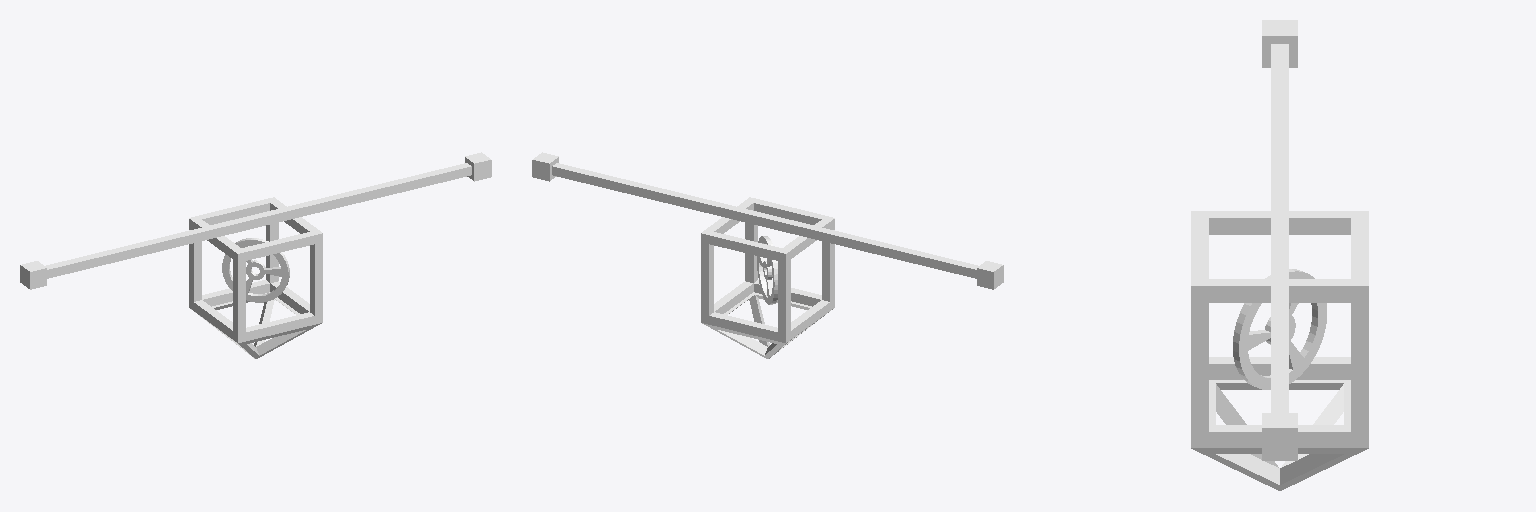
URDF robot description (one_wheel_cubli):
<?xml version="1.0" encoding="utf-8"?>
<!-- This URDF was automatically created by SolidWorks to URDF Exporter! Originally created by [author] ([email redacted]) 
     Commit Version: 1.6.0-4-g7f85cfe  Build Version: 1.6.7995.38578
     For more information, please see http://wiki.ros.org/sw_urdf_exporter -->
<robot
  name="one_wheel_cubli">
  <link
    name="base_link">
    <inertial>
      <origin
        xyz="0 0 0.1114"
        rpy="0 0 0" />
      <mass
        value="0.59044" />
      <inertia
        ixx="0.009253"
        ixy="0"
        ixz="0"
        iyy="0.019863"
        iyz="0"
        izz="0.011663" />
    </inertial>
    <visual>
      <origin
        xyz="0 0 0"
        rpy="0 0 0" />
      <geometry>
        <mesh
          filename="../meshes/base_link.STL" />
      </geometry>
      <material
        name="">
        <color
          rgba="1 1 1 1" />
      </material>
    </visual>
    <collision>
      <origin
        xyz="0 0 0"
        rpy="0 0 0" />
      <geometry>
        <mesh
          filename="../meshes/base_link.STL" />
      </geometry>
    </collision>
  </link>
  <link
    name="wheel">
    <inertial>
      <origin
        xyz="0 0 0"
        rpy="0 0 0" />
      <mass
        value="0.08" />
      <inertia
        ixx="3.145897E-05"
        ixy="0"
        ixz="0"
        iyy="3.145897E-05"
        iyz="0"
        izz="6.2588E-05" />
    </inertial>
    <visual>
      <origin
        xyz="0 0 0"
        rpy="0 0 0" />
      <geometry>
        <mesh
          filename="../meshes/wheel.STL" />
      </geometry>
      <material
        name="">
        <color
          rgba="1 1 1 1" />
      </material>
    </visual>
    <collision>
      <origin
        xyz="0 0 0"
        rpy="0 0 0" />
      <geometry>
        <mesh
          filename="../meshes/wheel.STL" />
      </geometry>
    </collision>
  </link>
  <joint
    name="wheel_joint"
    type="continuous">
    <origin
      xyz="0 0 0.1"
      rpy="-1.5708 0 -0.7854" />
    <parent
      link="base_link" />
    <child
      link="wheel" />
    <axis
      xyz="0 0 -1" />
  </joint>
</robot>

--- Render facts (derived) ---
The picture shows the robot from 3 angles, left to right: view 1: azimuth 30°, elevation 25°; view 2: azimuth 150°, elevation 25°; view 3: azimuth 270°, elevation 25°; orthographic projection.
Model one_wheel_cubli with 2 links and 1 joints (1 continuous), rooted at base_link, posed every joint at zero.
Links seen in each view (by area): view 1: base_link, wheel; view 2: base_link; view 3: base_link, wheel.
Boxes of the visible links, bbox=[...] form: base_link: bbox=[20, 152, 491, 358]; wheel: bbox=[226, 238, 289, 302]; base_link: bbox=[532, 152, 1003, 358]; base_link: bbox=[1191, 20, 1368, 490]; wheel: bbox=[1234, 269, 1326, 382].
Bounding box of the posed robot: 0.54 × 0.1 × 0.165 m (x, y, z).
2 mesh visuals loaded from 2 distinct referenced files (2 binary STL).